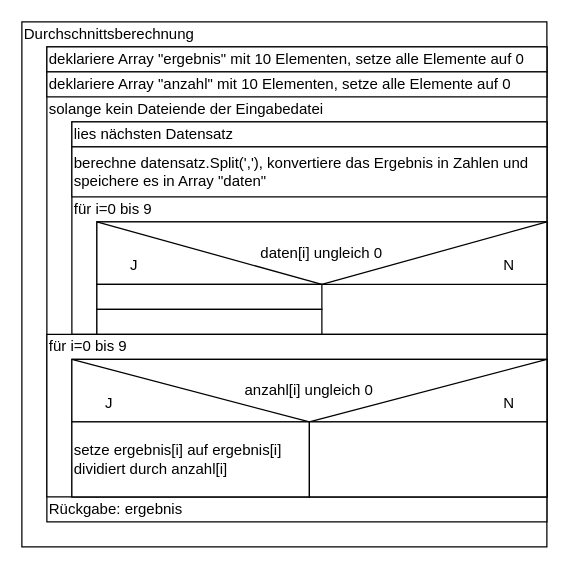
The diagram is 570 pixels wide and 569 high, and some of its shapes have lost their labels. The centre of each missing label's shape, as x and y in pixels:
"erhöhe anzahl[i] um 1" belongs at [209,321].
"erhöhe ergebnis[i] um daten[i]" belongs at [209,296].
